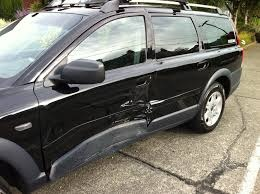Smashed: (52, 77, 154, 156)
